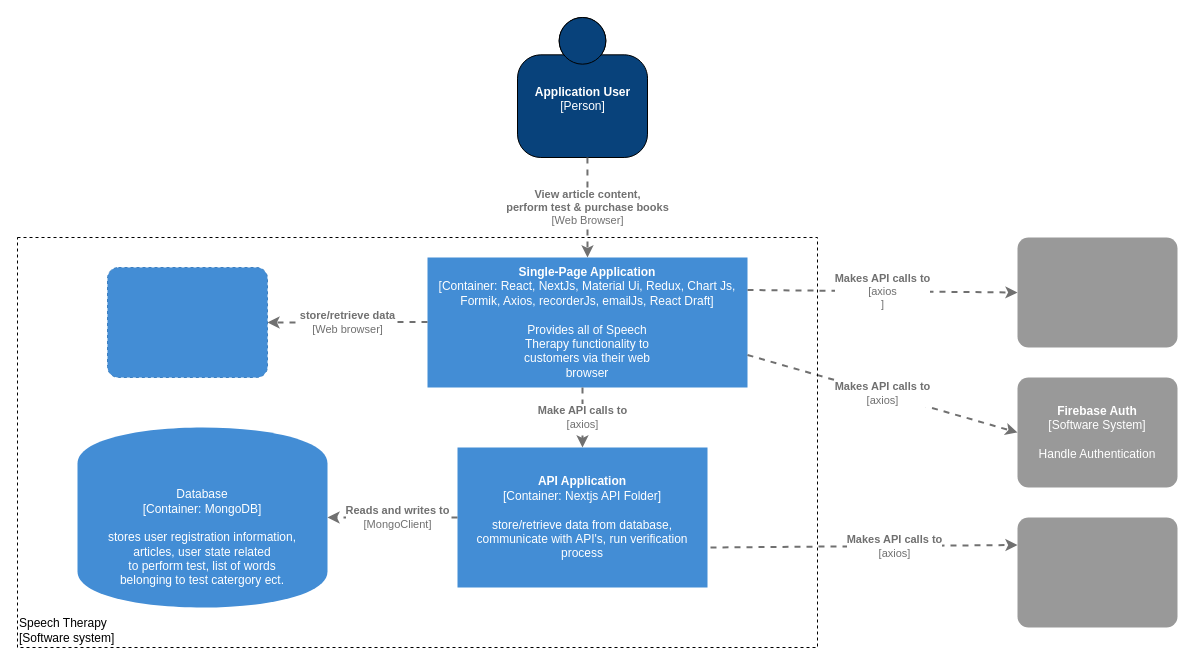
Image size: 1195x665. Some labels were removed from this diagram. The shapes that lost their labels are listed below. From the top down, each one's centre as x and y in pixels, then its label:
At (1097,292): "Shopify [Software System] Allows to build E-commerce into application".
At (187,322): "Local Storage [Container: web browser] Handles app state through web browser".
At (1097,572): "Google Cloud Platform [Software System] Accurately converts speech to text".
